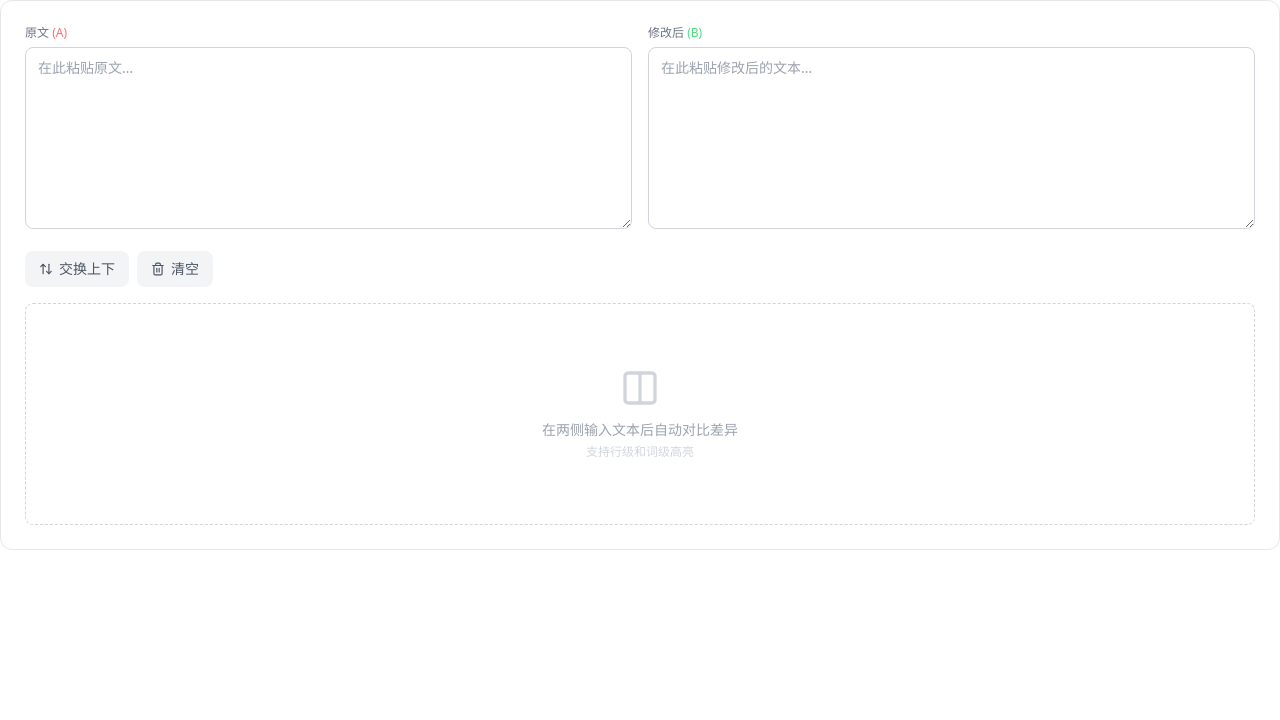
Test case: TextDiff › swaps texts between inputs
The width and height of the screenshot is (1280, 720).
Type "left" into the text box with placeholder "在此粘贴原文…".
click(328, 138); type("left")  # box x1=25 y1=47 x2=632 y2=229
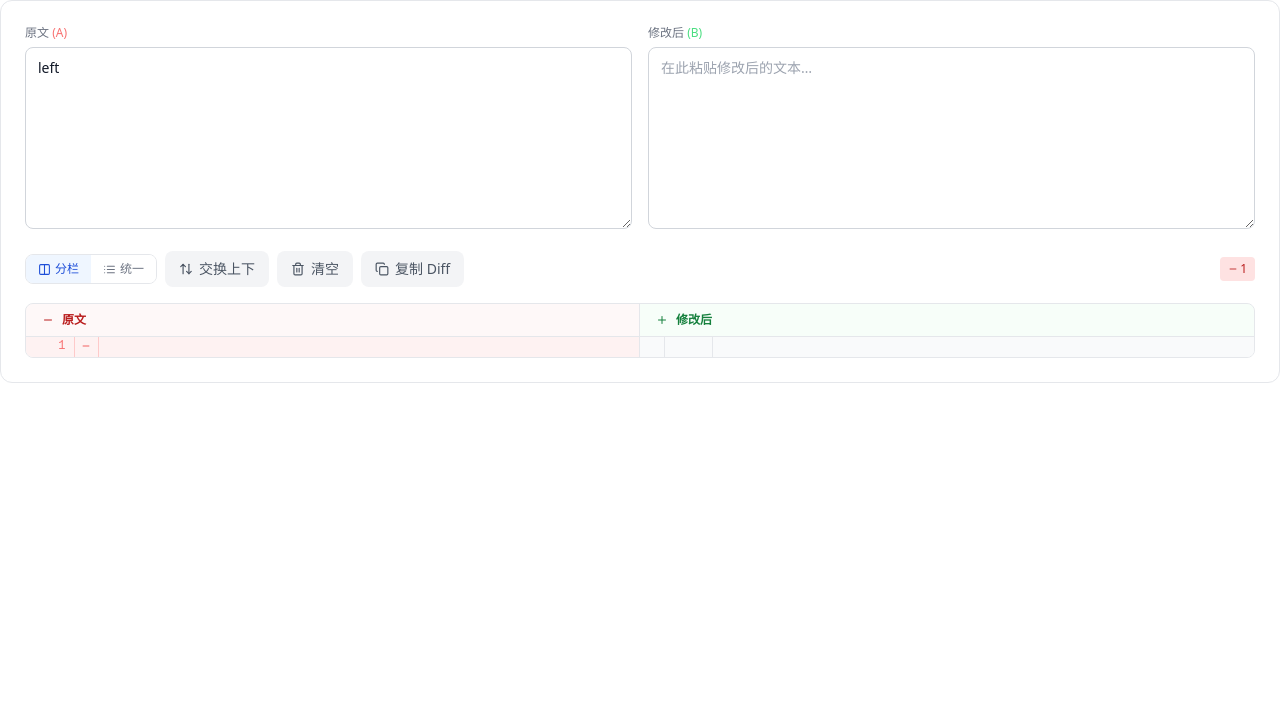
Type "right" into the text box with placeholder "在此粘贴修改后的文本…".
click(952, 138); type("right")  # box x1=648 y1=47 x2=1255 y2=229
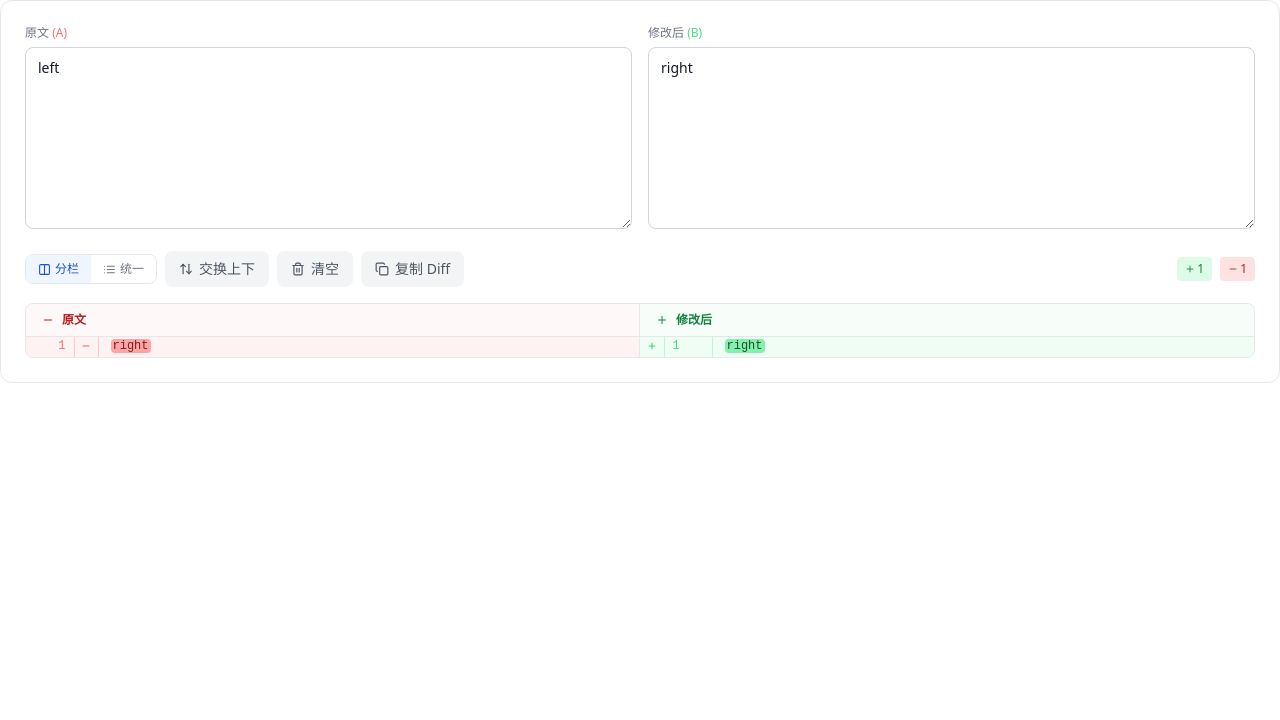
Click the button "交换上下".
click(217, 269)  # box x1=165 y1=251 x2=269 y2=287
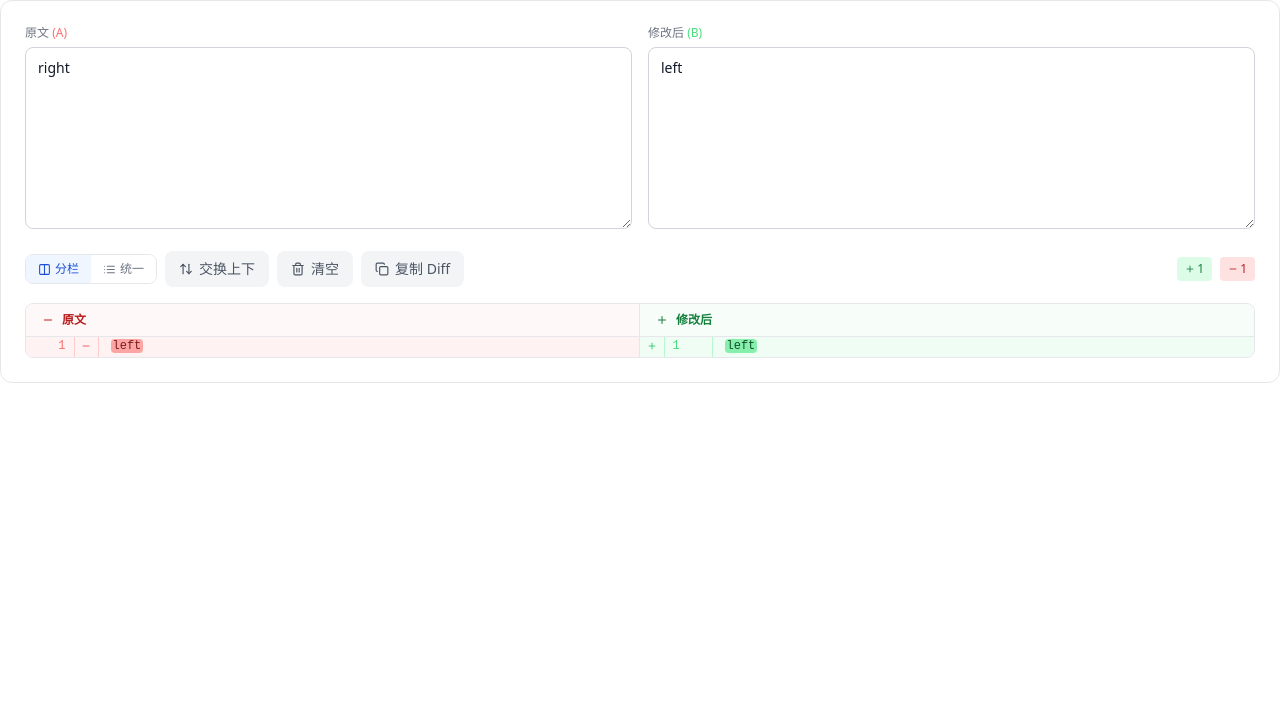
Expected: the text box below "(A)" holds "right", x1=25 y1=47 x2=632 y2=229
Expected: the text box below "(B)" holds "left", x1=648 y1=47 x2=1255 y2=229
